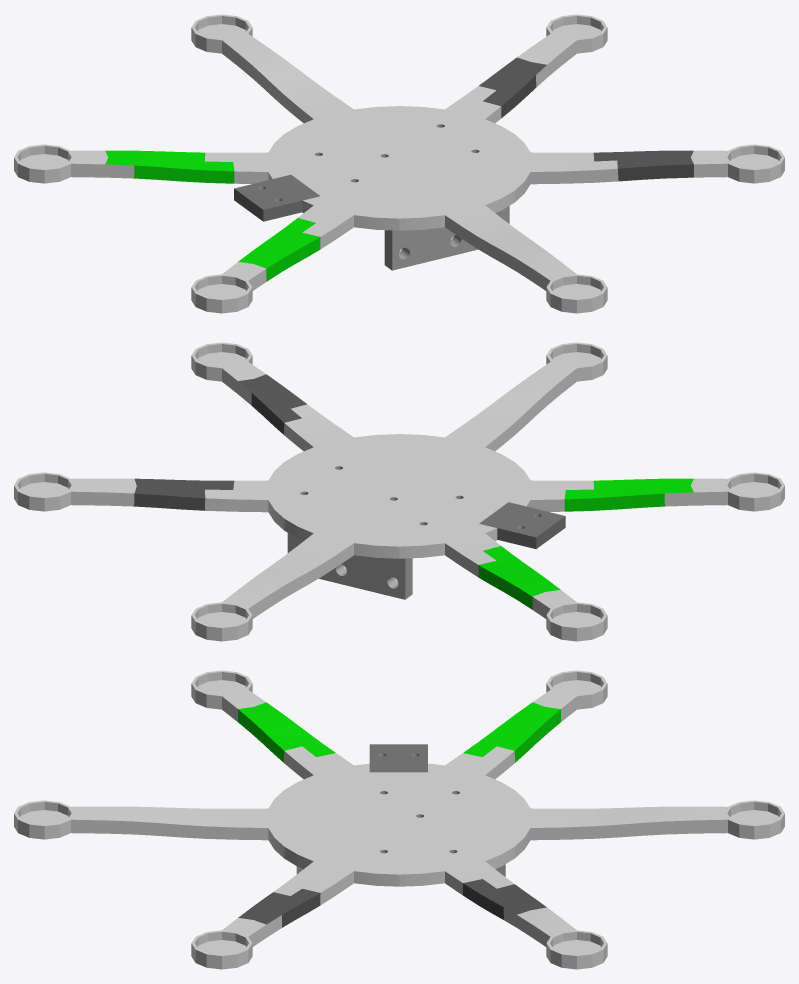
File: body_27.fbx
The picture shows the model from 3 angles, top to bottom: view 1: azimuth 30°, elevation 25°; view 2: azimuth 150°, elevation 25°; view 3: azimuth 270°, elevation 25°; orthographic projection.
Visible parts, largest first — view 1: pCube89, pCube91; view 2: pCube89, pCube90; view 3: pCube89.
Part boxes in pixels (x1=…): pCube89: x1=14, y1=14, x2=784, y2=313; pCube91: x1=384, y1=206, x2=509, y2=270; pCube89: x1=14, y1=342, x2=784, y2=641; pCube90: x1=287, y1=533, x2=412, y2=599; pCube89: x1=14, y1=670, x2=784, y2=969.
Bounding box in the file's own units: 20.81 × 2.09 × 23.73.
